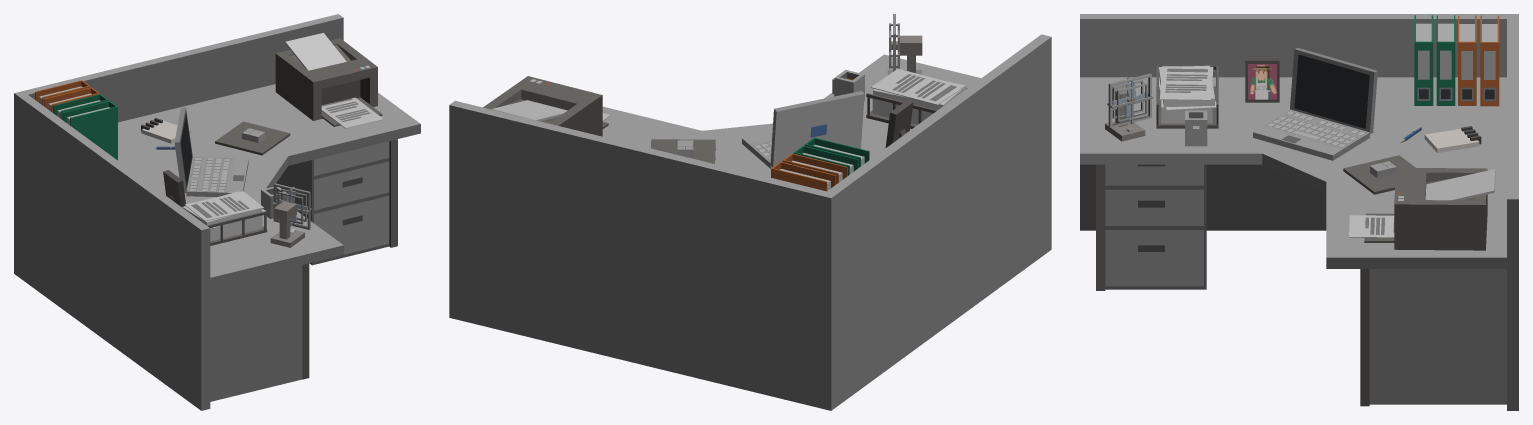
Rendered from SO_DeskPreset_03.fbx.
3 renders of one model, left to right at view 1: azimuth 30°, elevation 25°; view 2: azimuth 150°, elevation 25°; view 3: azimuth 270°, elevation 25°, orthographic. The views are drawn at different scales.
Visible parts, largest first — view 1: SO_DeskPreset_03; view 2: SO_DeskPreset_03; view 3: SO_DeskPreset_03.
Boxes of the visible parts, left/top/right/bottom form: SO_DeskPreset_03: left=14, top=14, right=420, bottom=410; SO_DeskPreset_03: left=449, top=14, right=1051, bottom=410; SO_DeskPreset_03: left=1080, top=14, right=1518, bottom=410.
Size of the model in its own units: 4.08 by 2.23 by 4.08.
